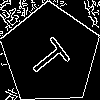T: (25, 30, 78, 82)
